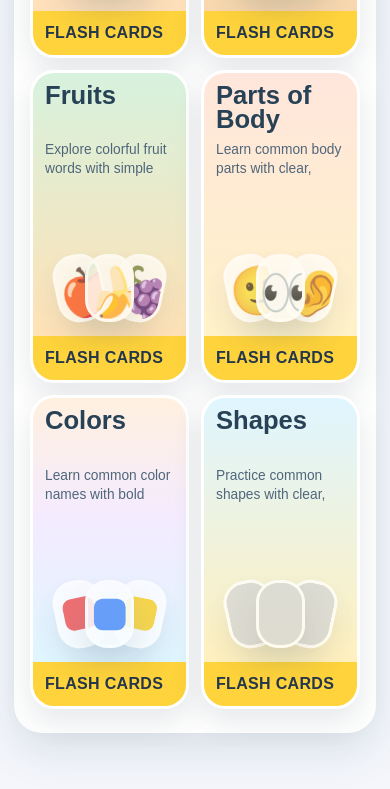
Test: App › opens colors directly without premium UI
(page scrolled)
Click the button with aria-label "Colors pack".
click(110, 552)  # box [30,395,189,709]
(page scrolled)
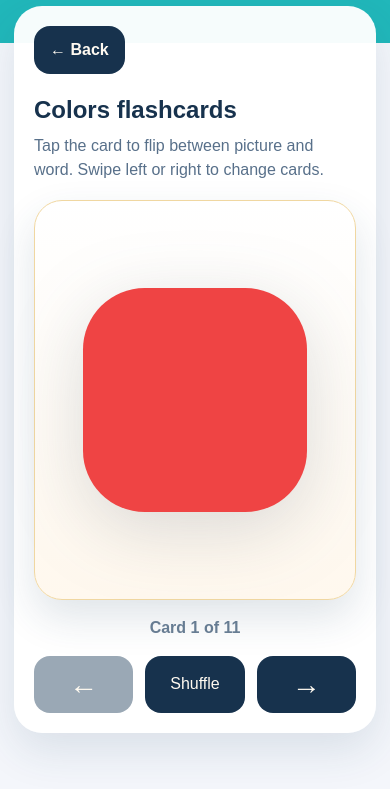
Expected: the heading "Colors flashcards" is shown, [34,96,237,123]
Expected: the button named "flip flashcard for red" is shown, [34,200,356,600]
